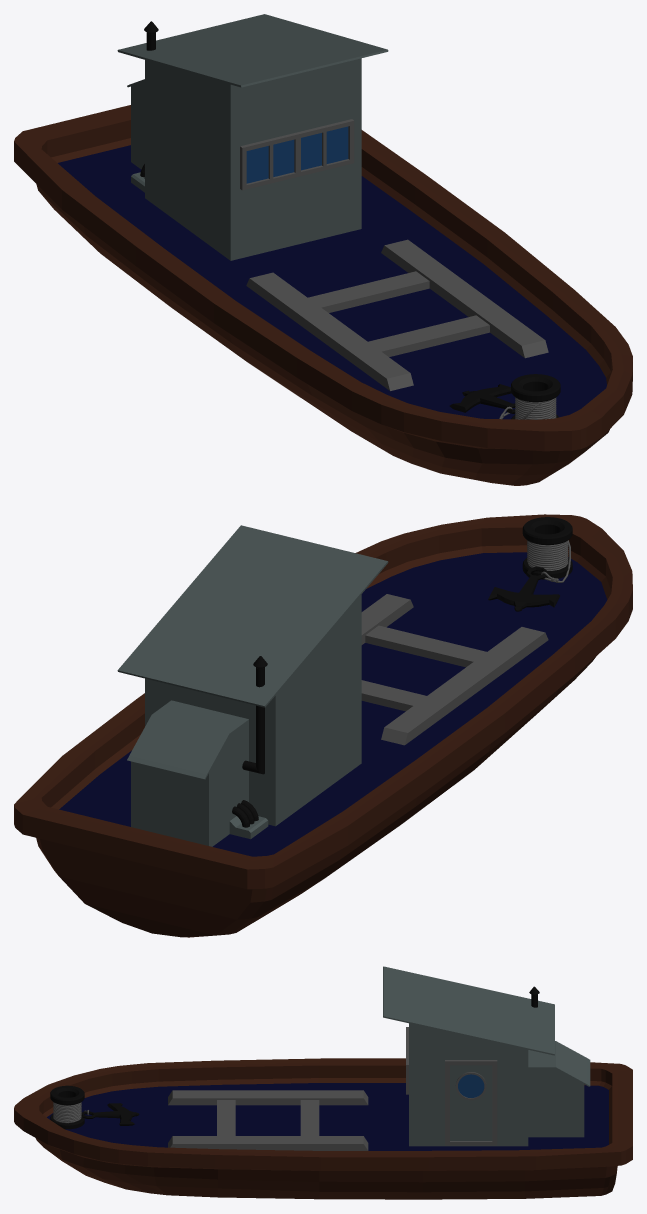
File: ship.fbx
3 renders of one model, top to bottom at view 1: azimuth 30°, elevation 25°; view 2: azimuth 150°, elevation 25°; view 3: azimuth 270°, elevation 25°, orthographic. The views are drawn at different scales.
Visible parts, largest first — view 1: ship.001, ship.008, ship.013, ship.002, ship.009, ship.010, ship.004, ship.005, ship.003; view 2: ship.008, ship.001, ship.013, ship.002, ship.004, ship.005, ship.003, ship.006; view 3: ship.001, ship.008, ship.013, ship.002, ship.012, ship.011, ship.004, ship.005, ship.003, ship.009, ship.010.
Part boxes in pixels (box(x1,y1,x2,y2)): ship.001: box(14, 105, 632, 485); ship.008: box(117, 14, 388, 260); ship.013: box(58, 145, 606, 419); ship.002: box(246, 239, 548, 391); ship.009: box(246, 126, 348, 183); ship.010: box(240, 119, 354, 190); ship.004: box(511, 374, 560, 419); ship.005: box(449, 384, 515, 413); ship.003: box(499, 397, 556, 419); ship.008: box(117, 525, 388, 846); ship.001: box(14, 514, 632, 937); ship.013: box(59, 552, 607, 856); ship.002: box(361, 594, 548, 745); ship.004: box(522, 517, 572, 579); ship.005: box(488, 566, 559, 611); ship.003: box(527, 540, 571, 582); ship.006: box(242, 656, 267, 774); ship.001: box(14, 1058, 632, 1199); ship.008: box(383, 966, 590, 1146); ship.013: box(47, 1083, 608, 1150); ship.002: box(168, 1090, 368, 1150); ship.012: box(450, 1065, 492, 1140); ship.011: box(445, 1060, 497, 1145); ship.004: box(50, 1085, 84, 1129); ship.005: box(81, 1103, 139, 1125); ship.003: box(53, 1102, 89, 1123); ship.009: box(458, 1074, 484, 1097); ship.010: box(406, 1027, 486, 1100).
Bounding box in the file's own units: 201 × 182 × 533.
